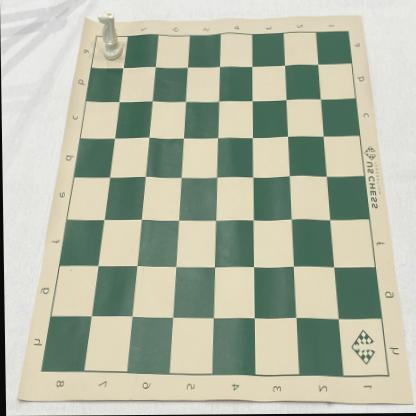white-knight: (98, 12, 123, 62)
